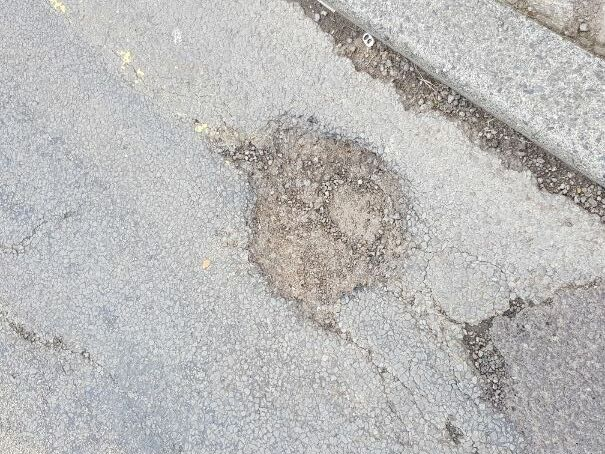pothole: (198, 112, 426, 329)
